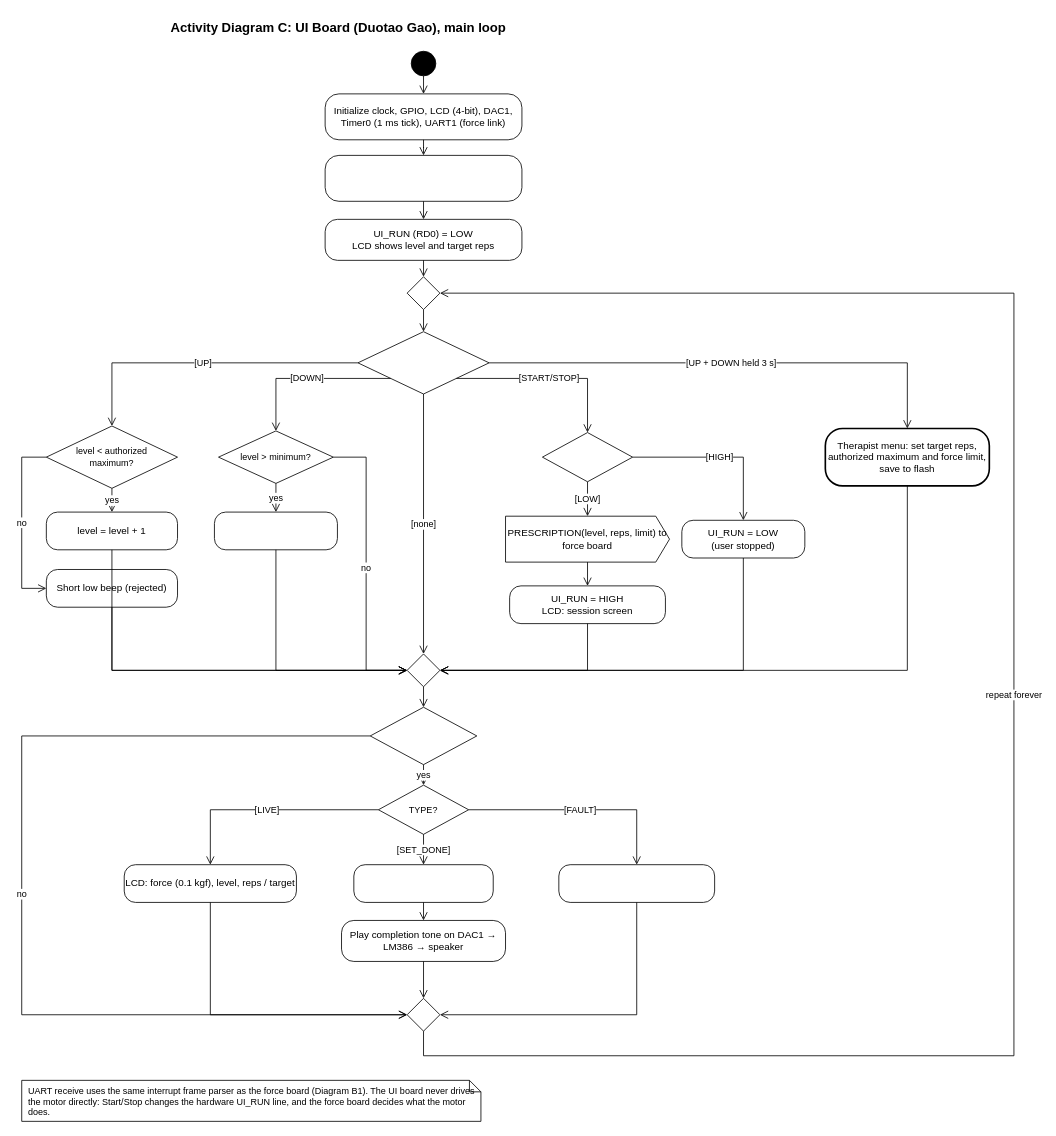
The diagram is 1056 pixels wide and 1136 high, and some of its shapes have lost their labels. Here are the shapes that lost their labels. From the top down, the centre of each, then its label:
the point at 423,178: Load profile from flash: level, target reps, authorized maximum, force limit
the point at 423,362: Button pressed? (debounced)
the point at 587,457: UI_RUN?
the point at 275,530: level = level − 1
the point at 423,735: UART frame ready?
the point at 423,883: UI_RUN = LOW
the point at 636,883: UI_RUN = LOW LCD: fault message
